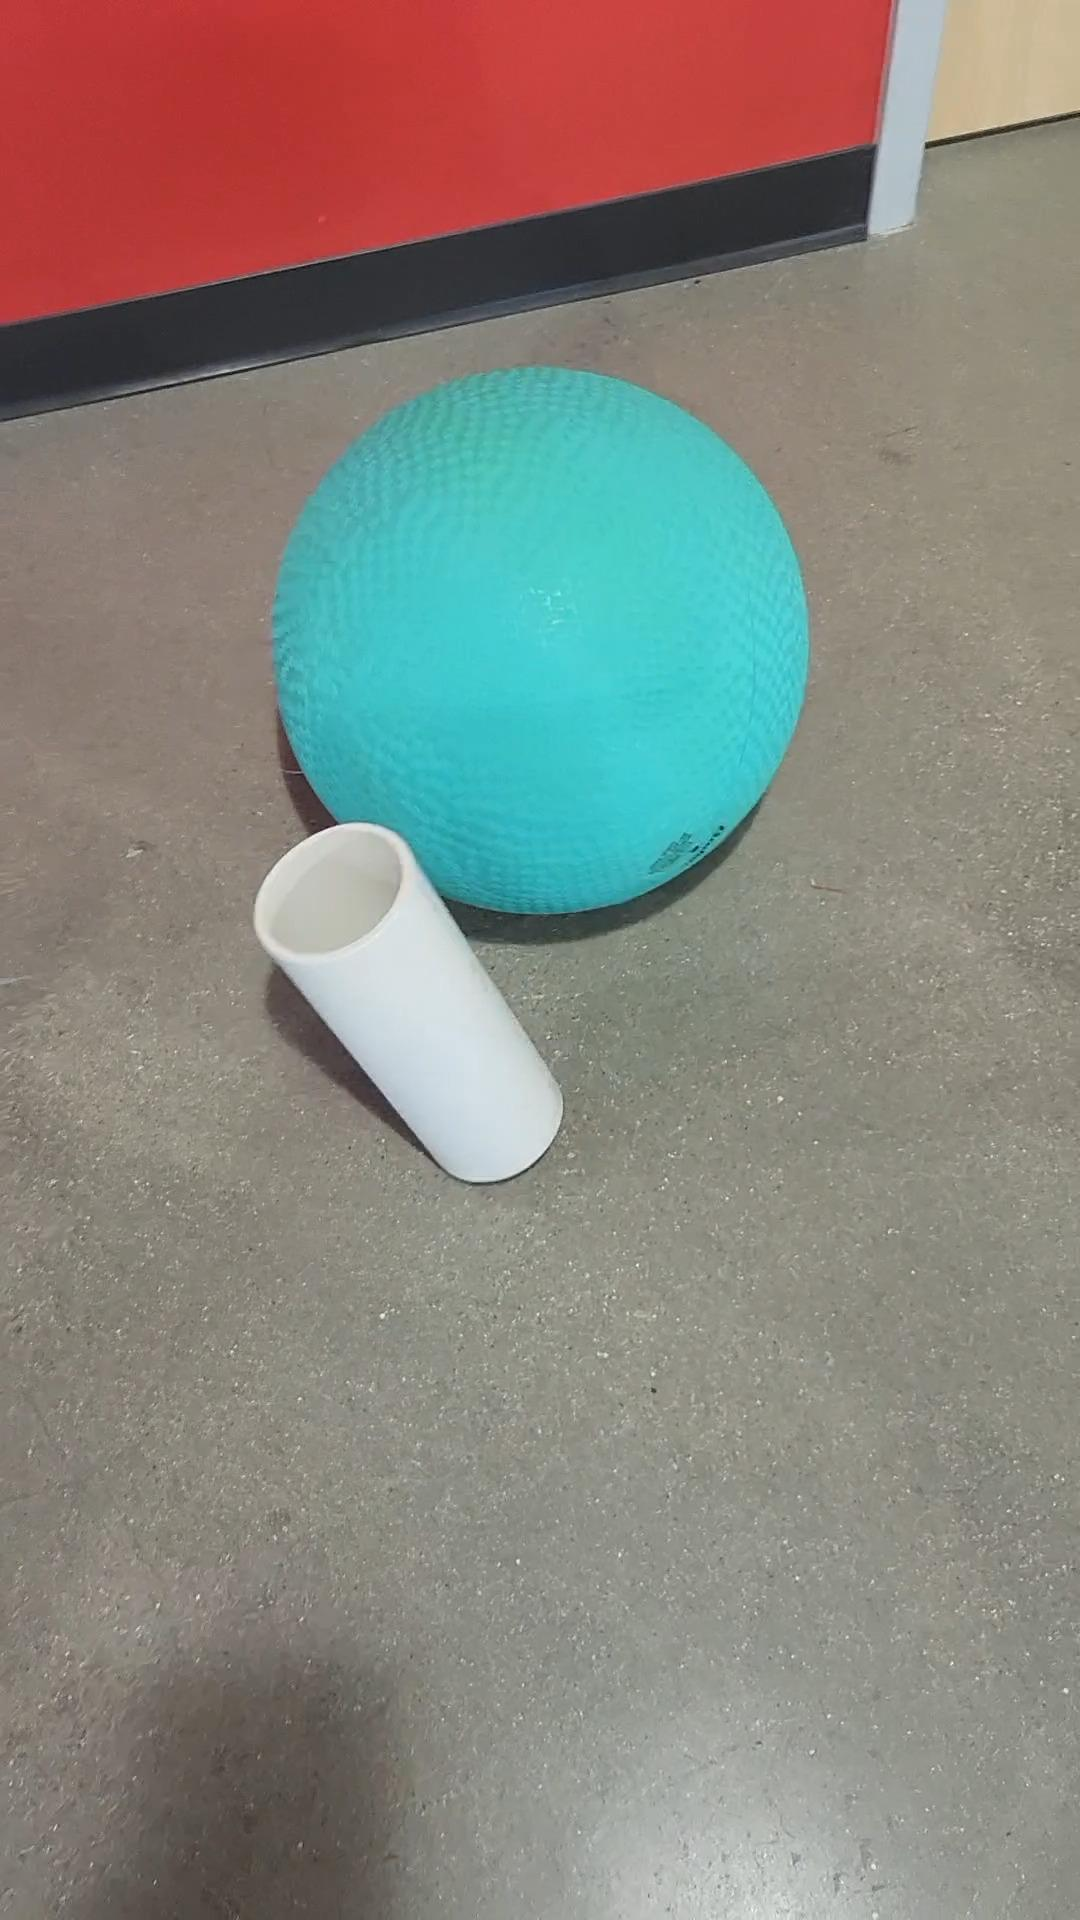algae: (272, 345, 798, 897)
coral: (241, 836, 599, 1184)
